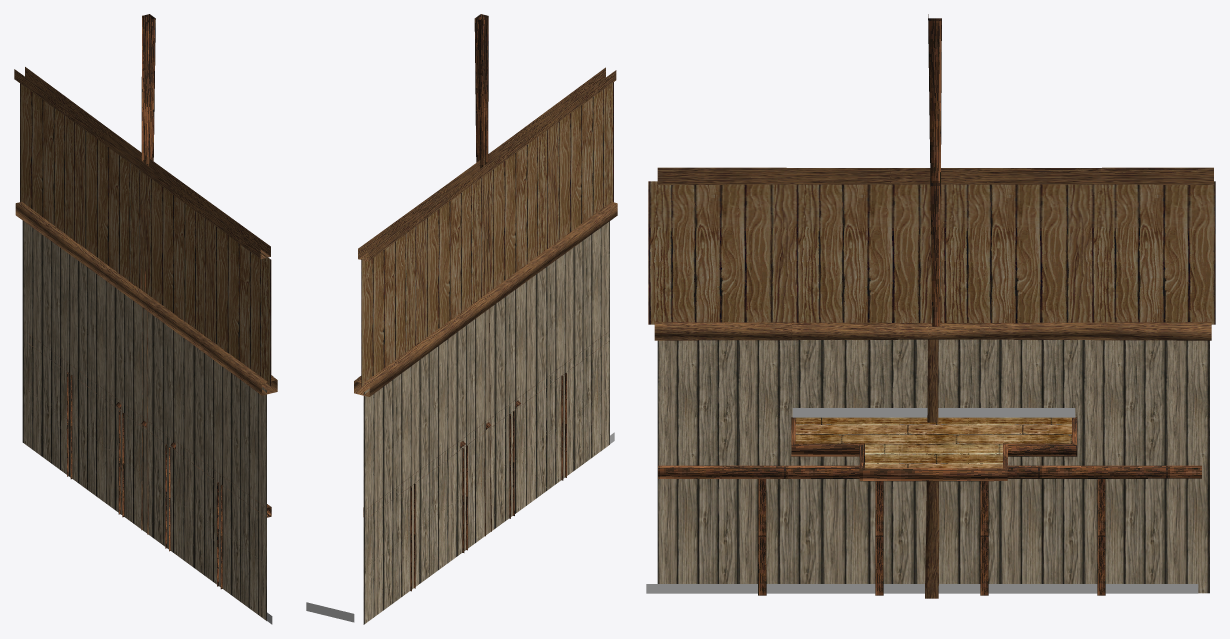
The model's file is LAKETOWN_WAREHOUSE1_PS_WH1_BACKWALL8487__GX.obj.
The picture shows the model from 3 angles, left to right: view 1: azimuth 30°, elevation 25°; view 2: azimuth 150°, elevation 25°; view 3: azimuth 270°, elevation 25°; orthographic projection. The views are drawn at different scales.
Parts seen in each view (by area): view 1: ackWall8487__GX; view 2: ackWall8487__GX; view 3: ackWall8487__GX.
Boxes of the visible parts, x1,y1,x2,y2 form: ackWall8487__GX: (14,14,277,624); ackWall8487__GX: (306,14,617,624); ackWall8487__GX: (646,14,1215,598).
Size of the model in its own units: 382 by 1825 by 1625.
